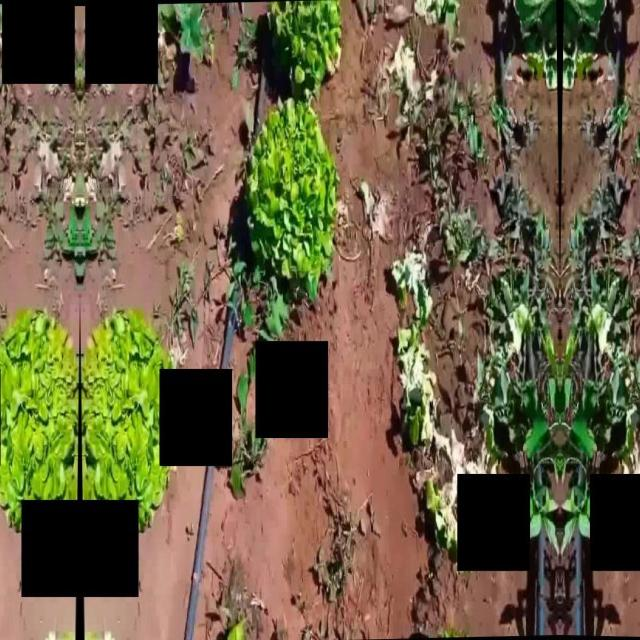healthy: (80, 304, 174, 534), (242, 96, 338, 294), (0, 304, 80, 534), (269, 0, 343, 90)
